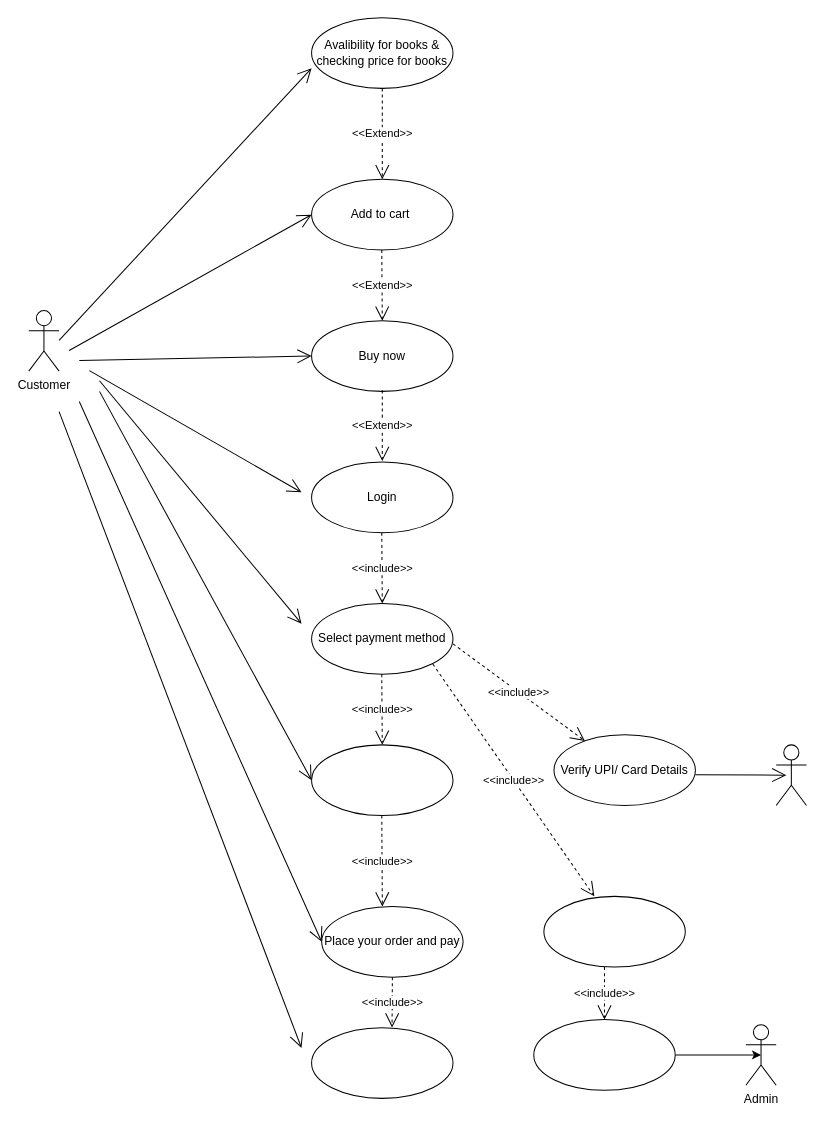
The diagram is 824 pixels wide and 1124 high, and some of its shapes have lost their labels. Each missing label, with the centre of its shape:
"Add Delivery Address" belongs at pixel 382 780.
"Bank" belongs at pixel 790 774.
"Cancel Book Order" belongs at pixel 614 931.
"Received Book" belongs at pixel 382 1062.
"Refund" belongs at pixel 604 1054.
